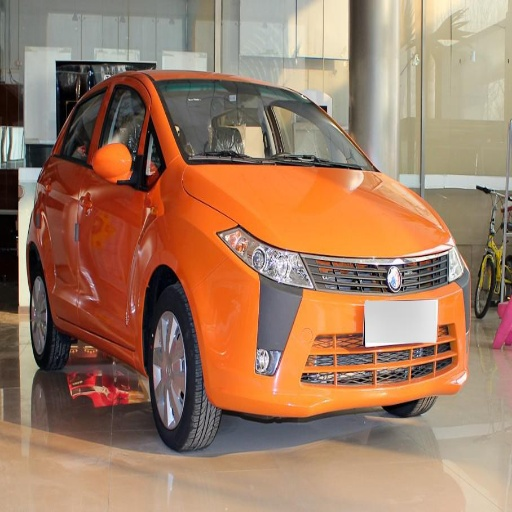front_bumper: (195, 248, 467, 407)
front_right_door: (77, 80, 149, 340)
front_right_light: (217, 227, 336, 287)
trunk: (219, 382, 308, 410)
